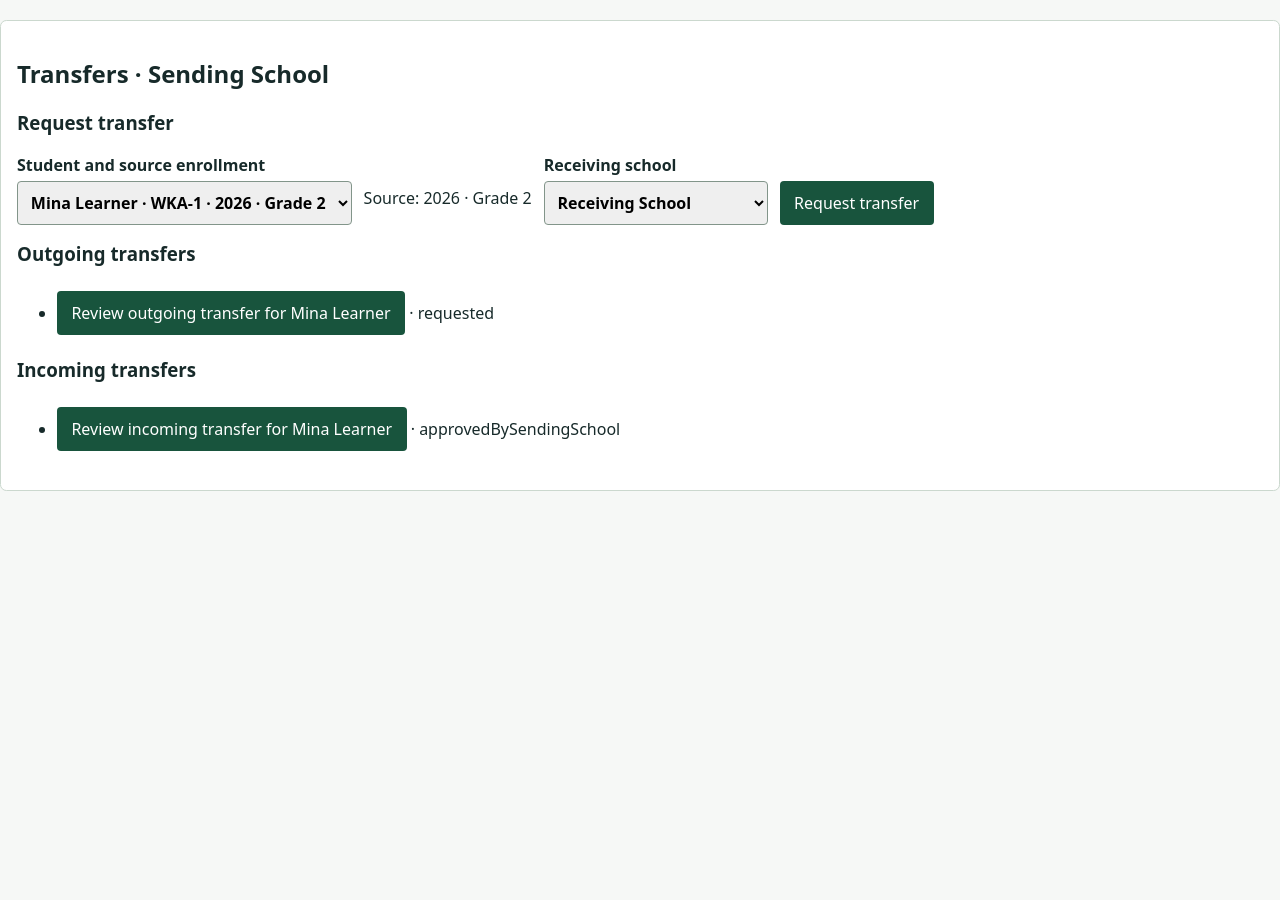
transfer workspace › requires a reason for rejection and does not mark a request complete
Click the button "Review incoming transfer for Mina Learner" at (232,429), box x1=57 y1=407 x2=406 y2=451
(page scrolled)
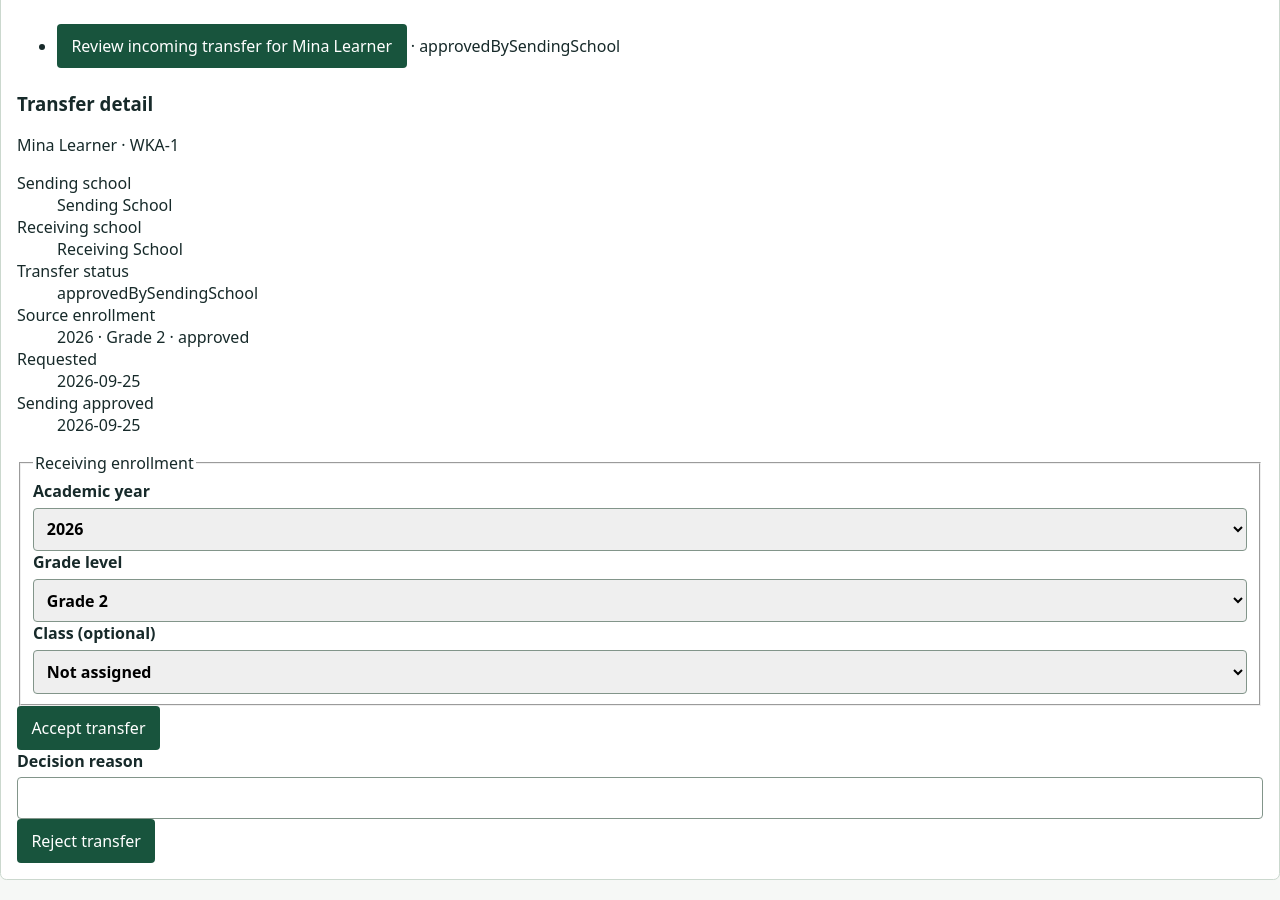
Click the button "Reject transfer" at (86,841), box x1=17 y1=819 x2=155 y2=863
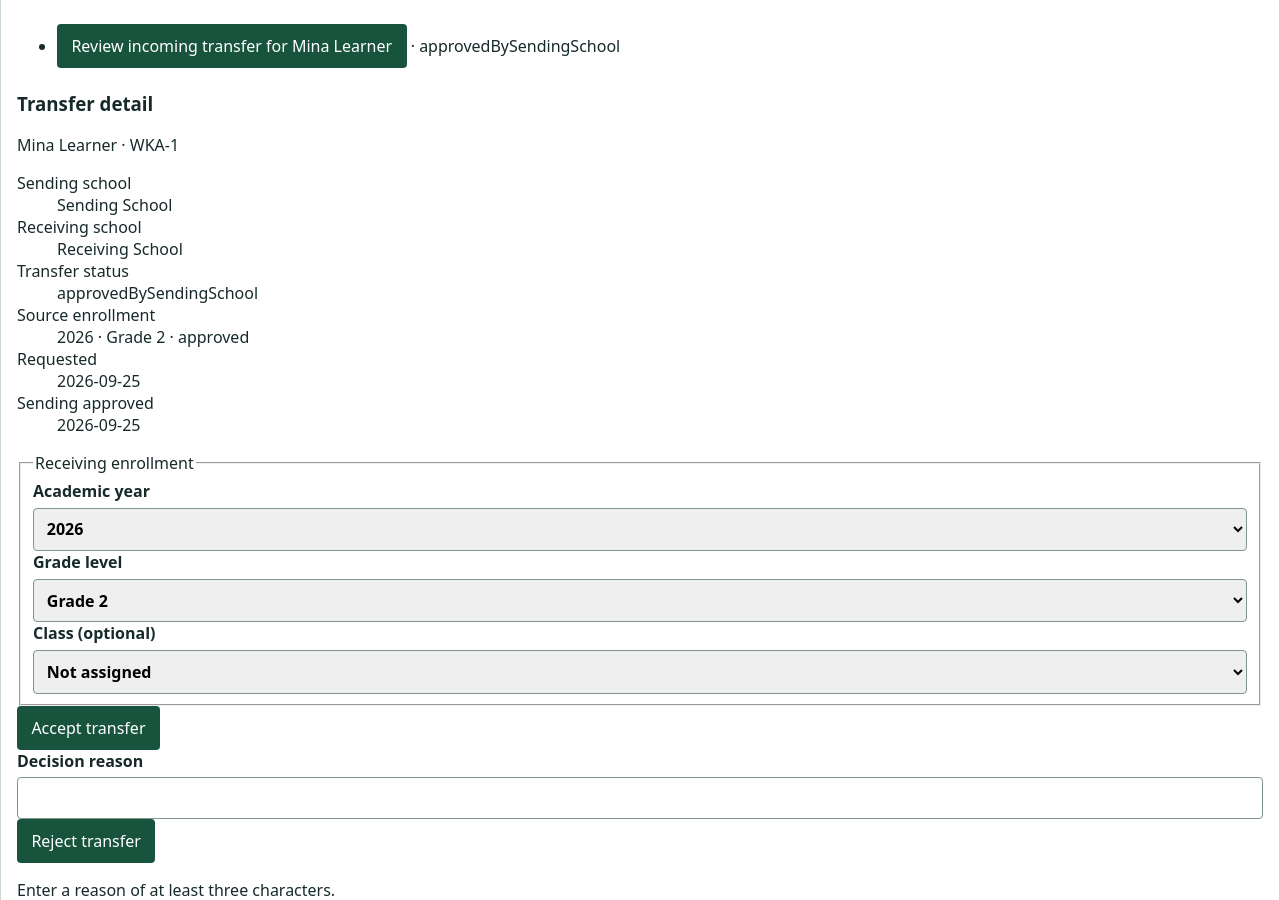
Expected: the text "Enter a reason of at least three characters." is shown, x1=17 y1=879 x2=335 y2=899
